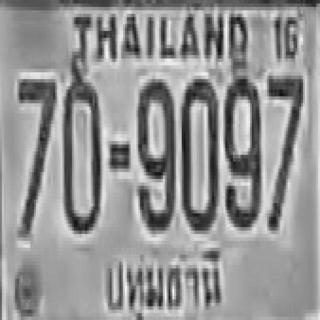N00: (63, 72, 100, 231), (180, 76, 216, 230)
N07: (17, 76, 55, 230), (266, 72, 302, 227)
N09: (136, 76, 174, 227), (223, 72, 260, 227)
P38: (99, 248, 225, 320)
